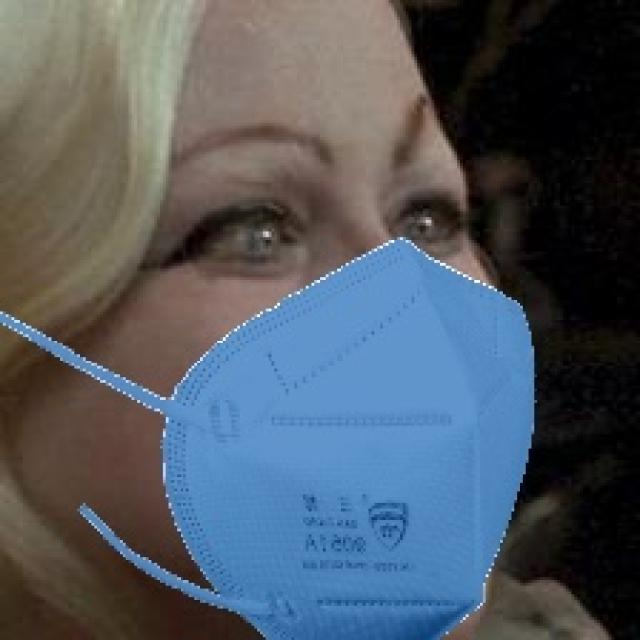mask: (1, 264, 545, 640)
